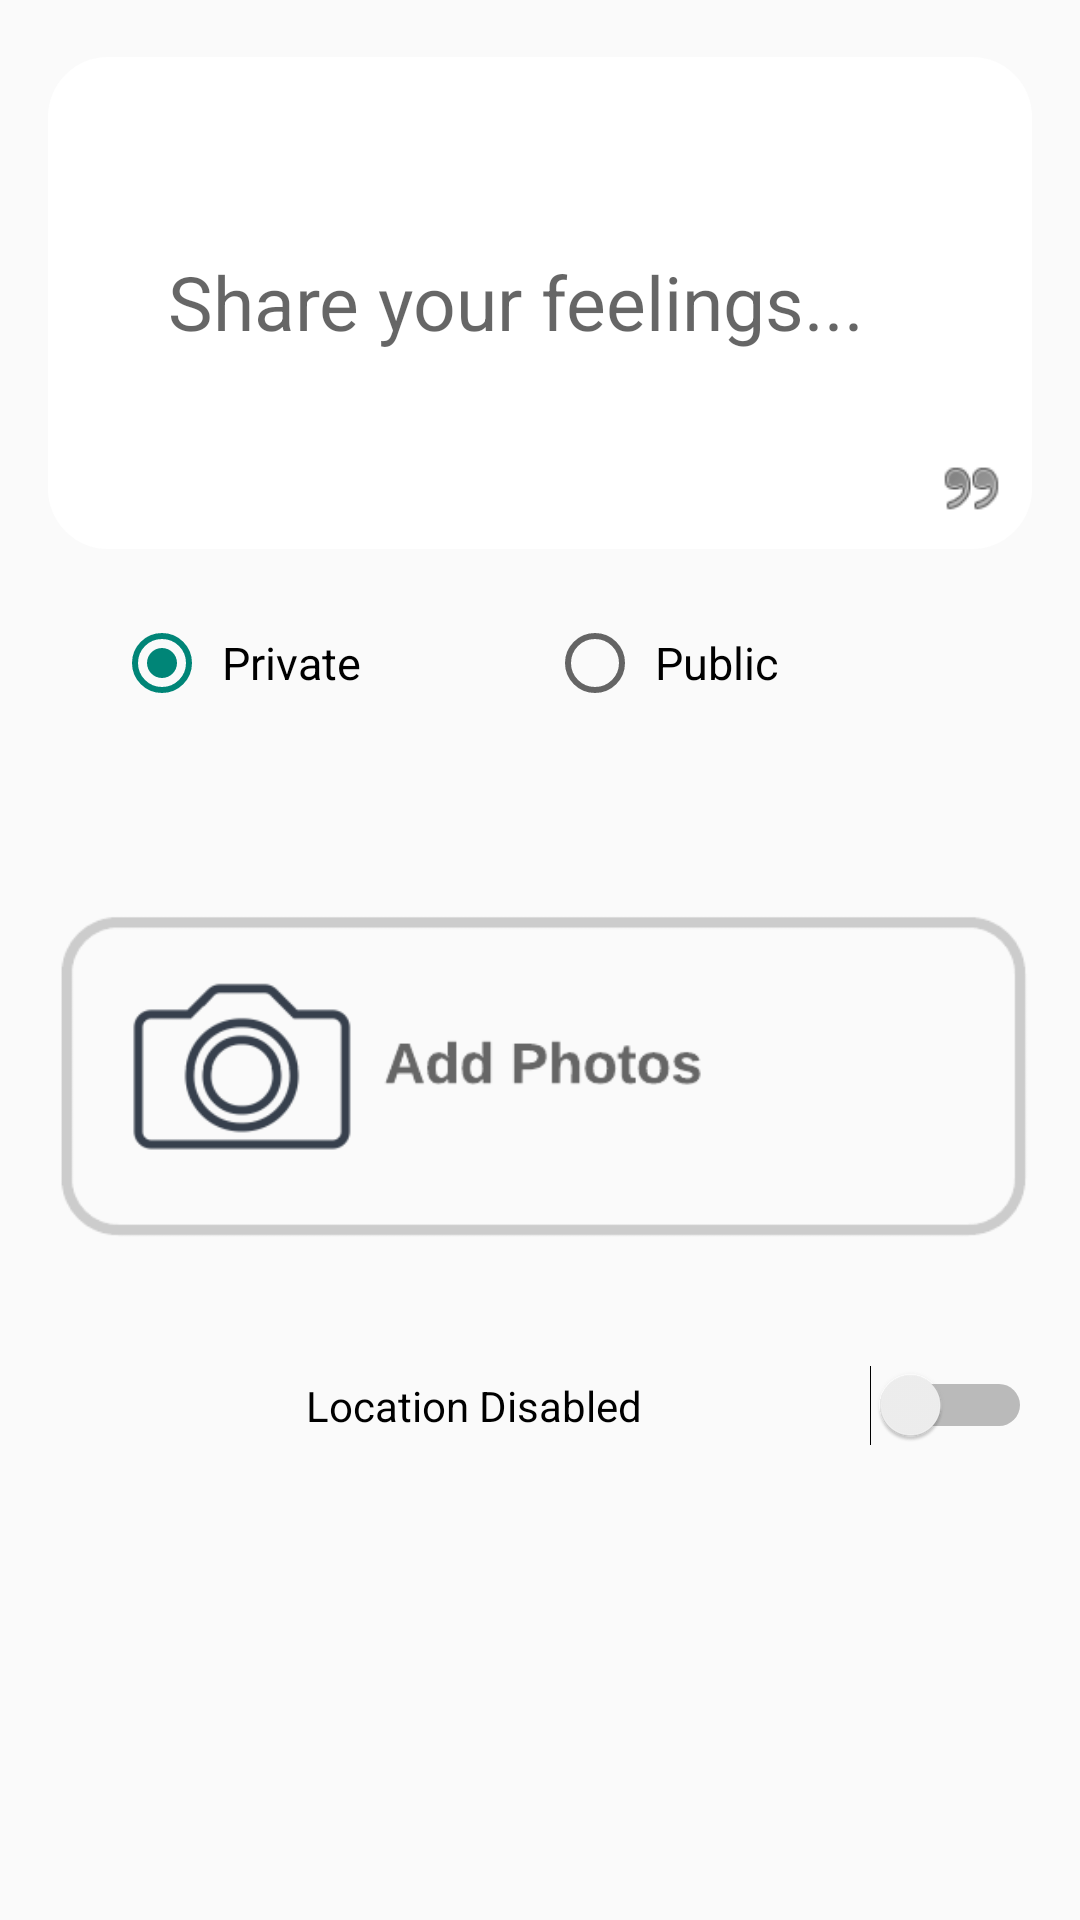

Icons on this 1080*1920 Android screen, each with the point to tap as point (x, y):
quotedown: point (971, 488)
